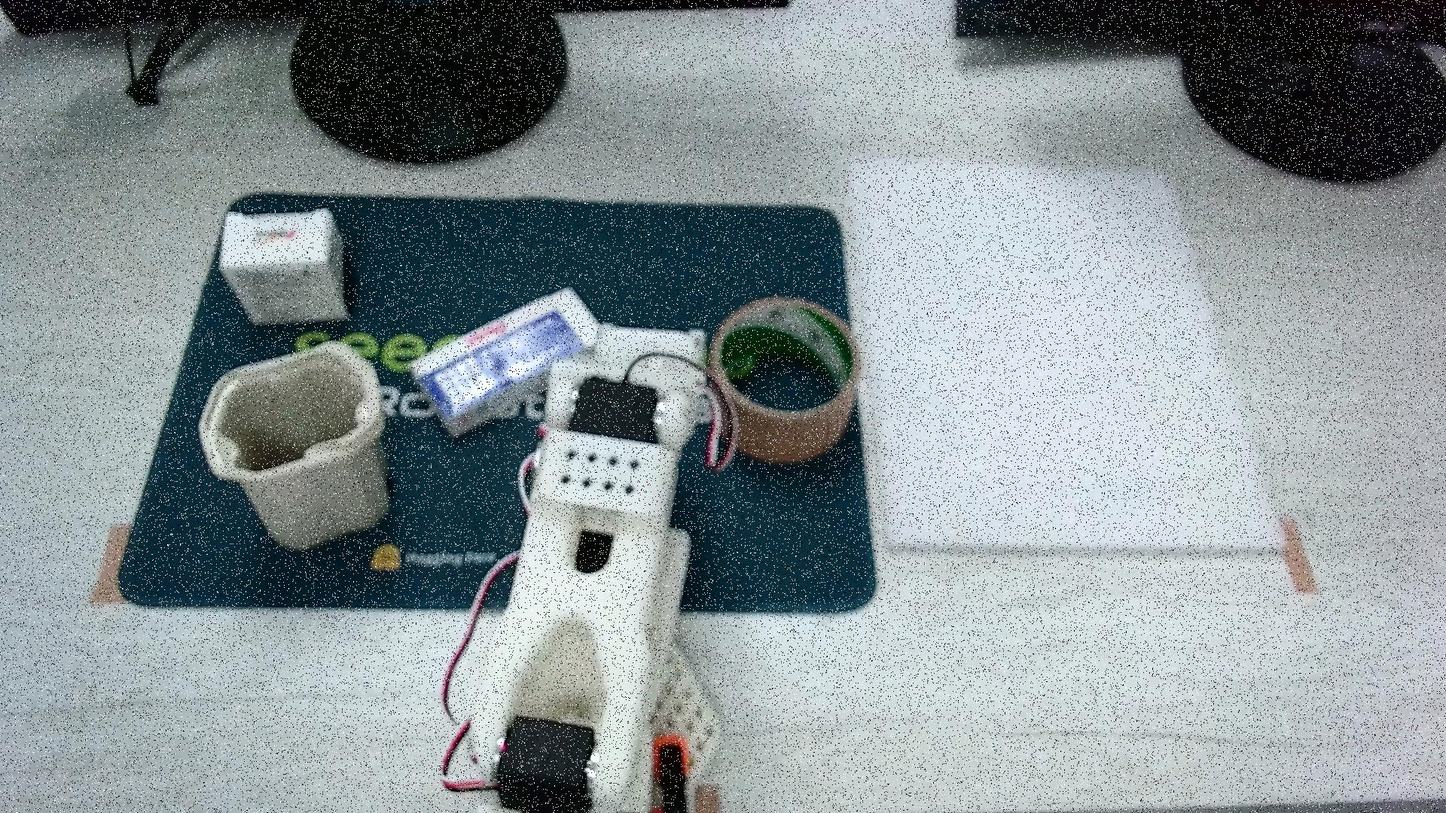eraser: (220, 208, 348, 324)
